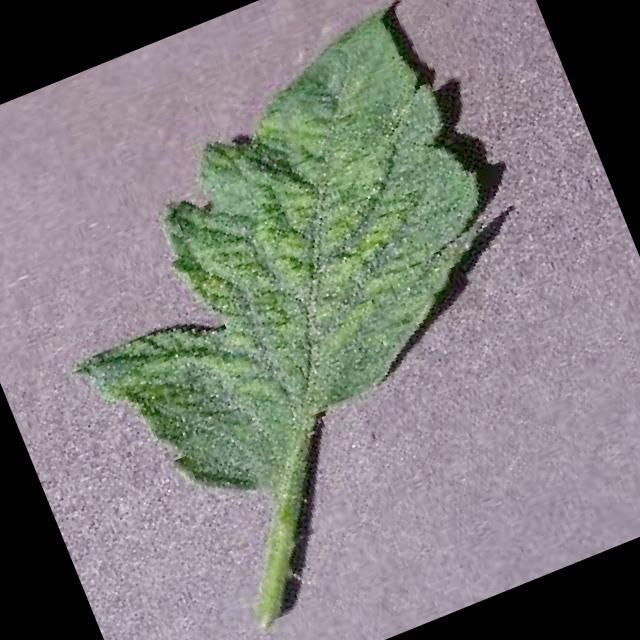Tomato mosaic virus leaf: (0, 0, 565, 543)
